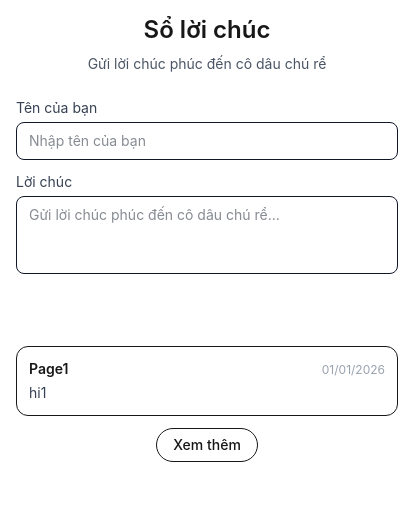
WishesSection › 'Xem thêm' loads the next cursor page and appends it to the list
This screenshot has width=415, height=515.
Expected: the text "Page1" is shown, [29,359,68,379]
Click the button "Xem thêm" at [207, 445], box [156,428,258,462]
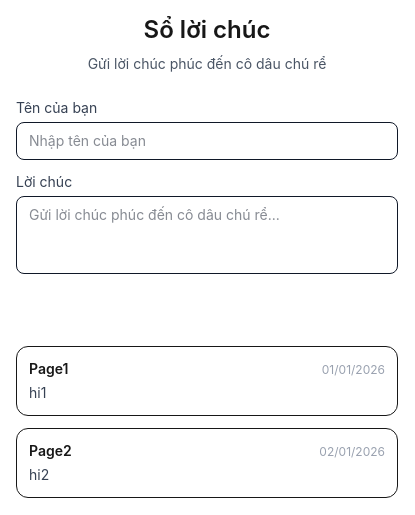
Expected: the text "Page1" is shown, [29,359,68,379]
Now the text "Page2" is shown, box [29,441,72,461]
Now the button "Xem thêm" is gone
